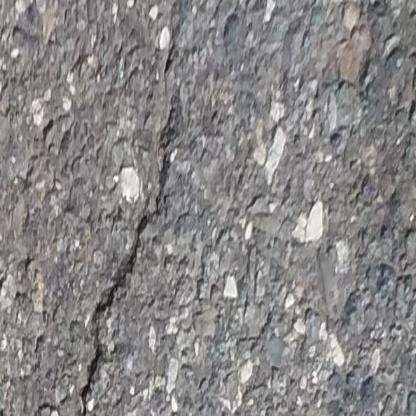Cracks: (73, 0, 195, 416), (0, 382, 19, 416)
